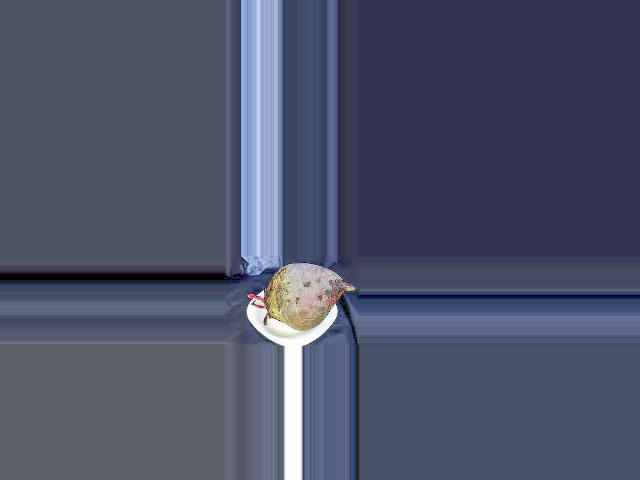beet: (247, 264, 354, 330)
